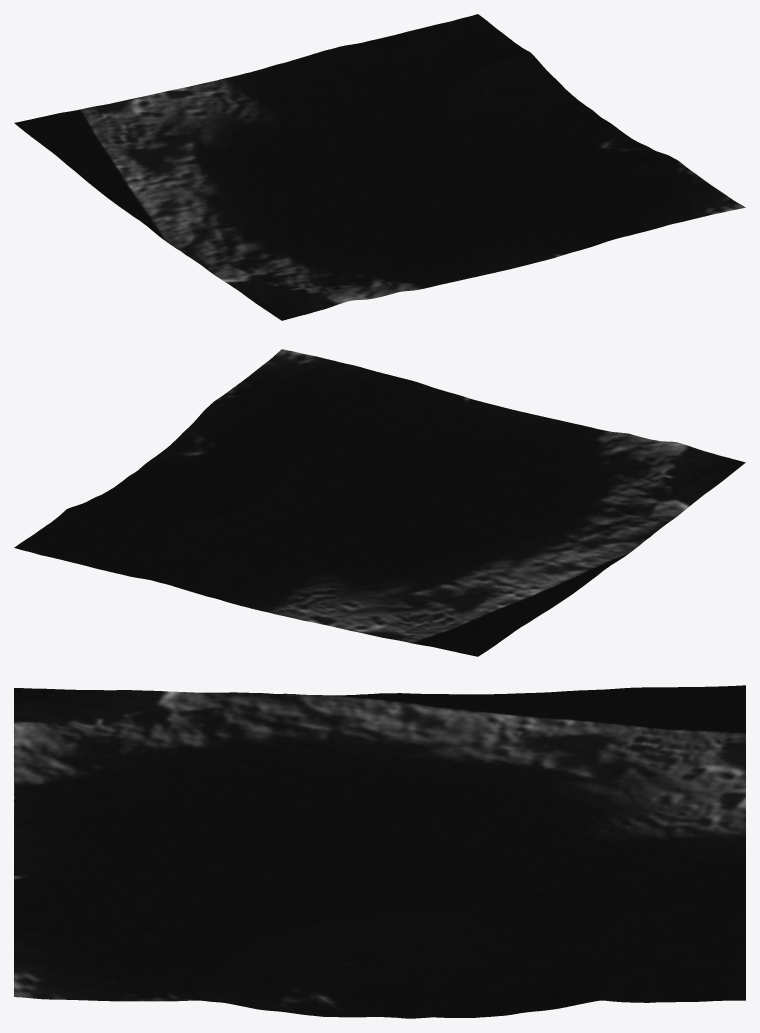
File: moon_terrain.glb
The picture shows the model from 3 angles, top to bottom: view 1: azimuth 30°, elevation 25°; view 2: azimuth 150°, elevation 25°; view 3: azimuth 270°, elevation 25°; orthographic projection. The views are drawn at different scales.
Visible parts, largest first — view 1: model; view 2: model; view 3: model.
Part boxes in pixels (x1=…): model: x1=14, y1=14, x2=745, y2=320; model: x1=14, y1=349, x2=745, y2=656; model: x1=14, y1=685, x2=745, y2=1018.
Bounding box in the file's own units: 3072 × 121 × 3072.
1 material, 1 textured.
